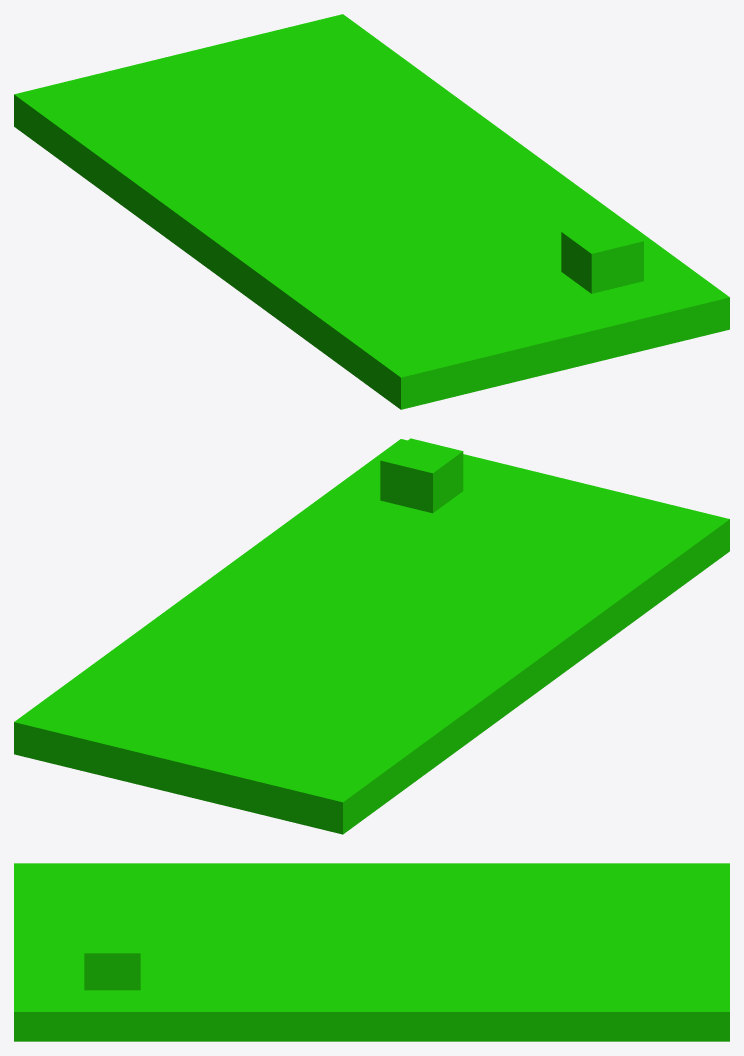
Rendered from SM_Shelf_05_Door_01_Collider.fbx.
3 views of the same model, one above another, from view 1: azimuth 30°, elevation 25°; view 2: azimuth 150°, elevation 25°; view 3: azimuth 270°, elevation 25° (orthographic). The views are drawn at different scales.
Parts seen in each view (by area): view 1: SM_Shelf_05_Door_01_Collider; view 2: SM_Shelf_05_Door_01_Collider; view 3: SM_Shelf_05_Door_01_Collider.
Boxes of the visible parts, box(x1,y1,x2,y2) form: SM_Shelf_05_Door_01_Collider: box(14, 14, 729, 409); SM_Shelf_05_Door_01_Collider: box(14, 438, 729, 834); SM_Shelf_05_Door_01_Collider: box(14, 863, 729, 1041).
Size of the model in its own units: 41.6 by 8.73 by 84.75.
